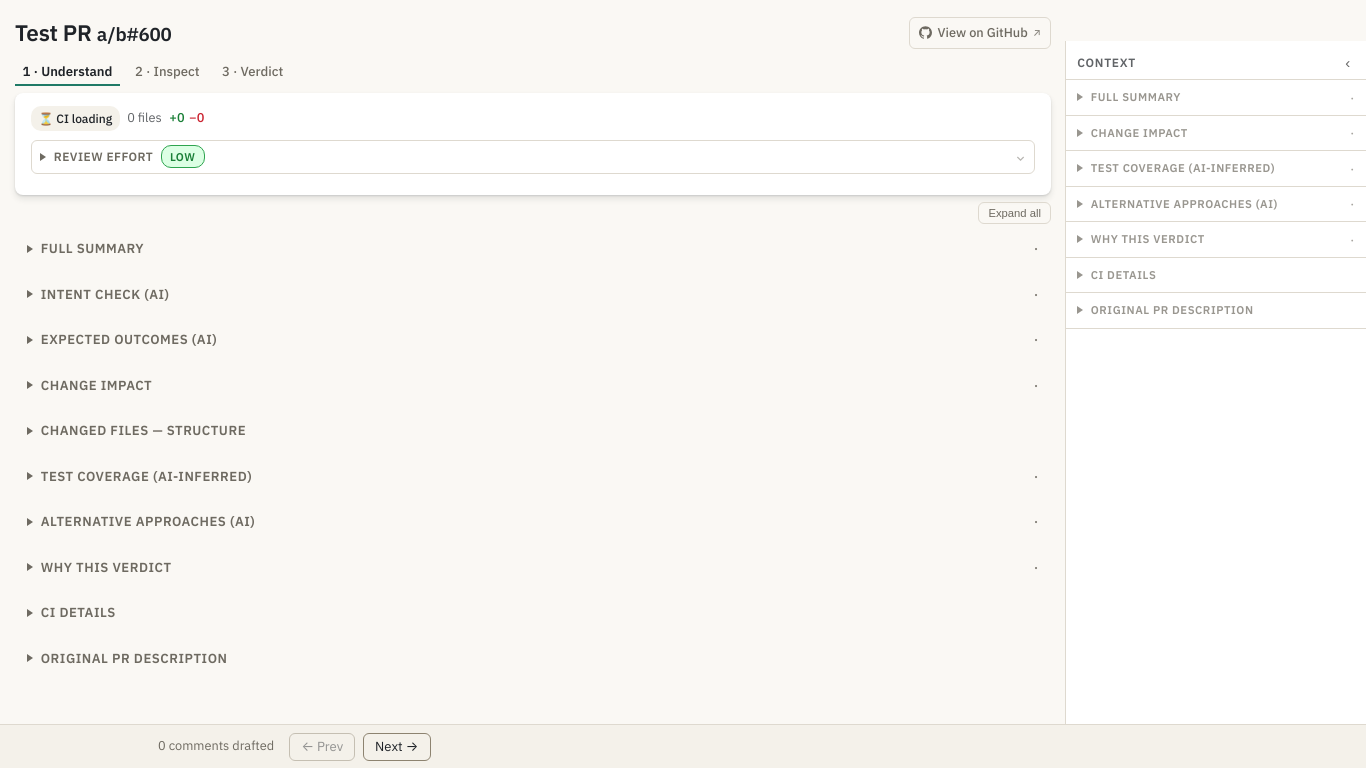
Scenario: Since-last-visit — 404 graceful fallback › shows force-push error message when compare returns 404
Check: the message "0 comments drafted" is shown, box [158,736,274,757]
Click the button with aria-label "next step" at point(397, 746), box [363,732,430,760]
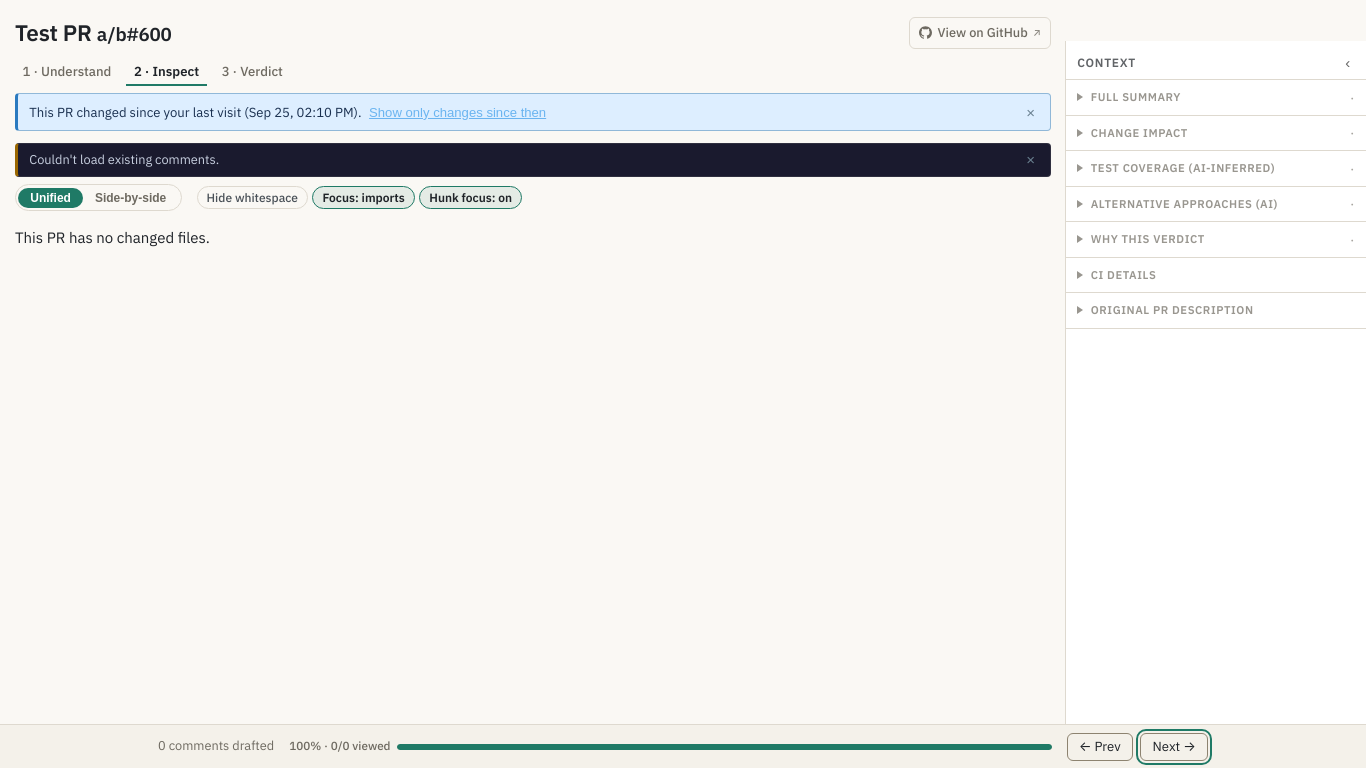
Check: the text "changed since your last visit" is shown, box [29,104,362,121]
Click the button "Show only changes since then" at point(458, 112), box [369,105,546,120]
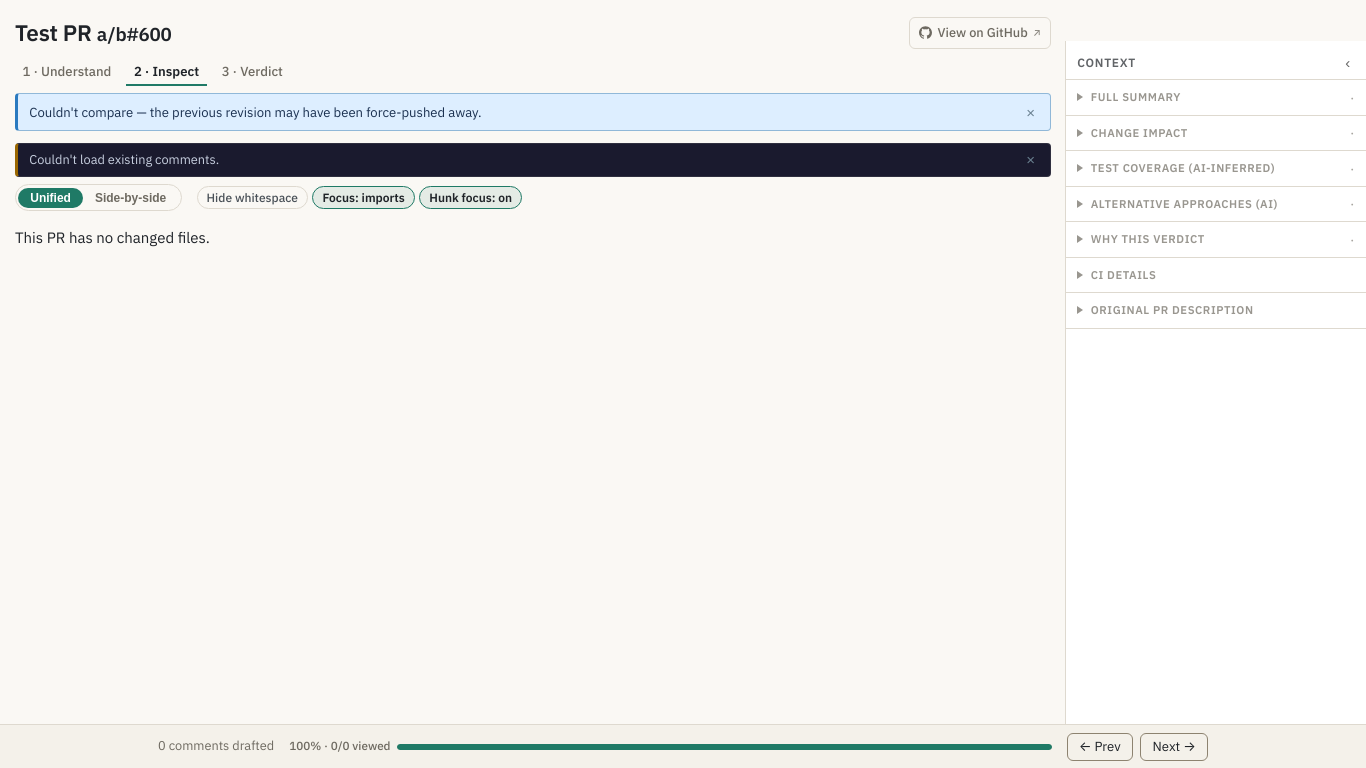
Check: the text "Couldn't compare — the previous revision may have been force-pushed away. ×" is shown, box [15,93,1051,131]
